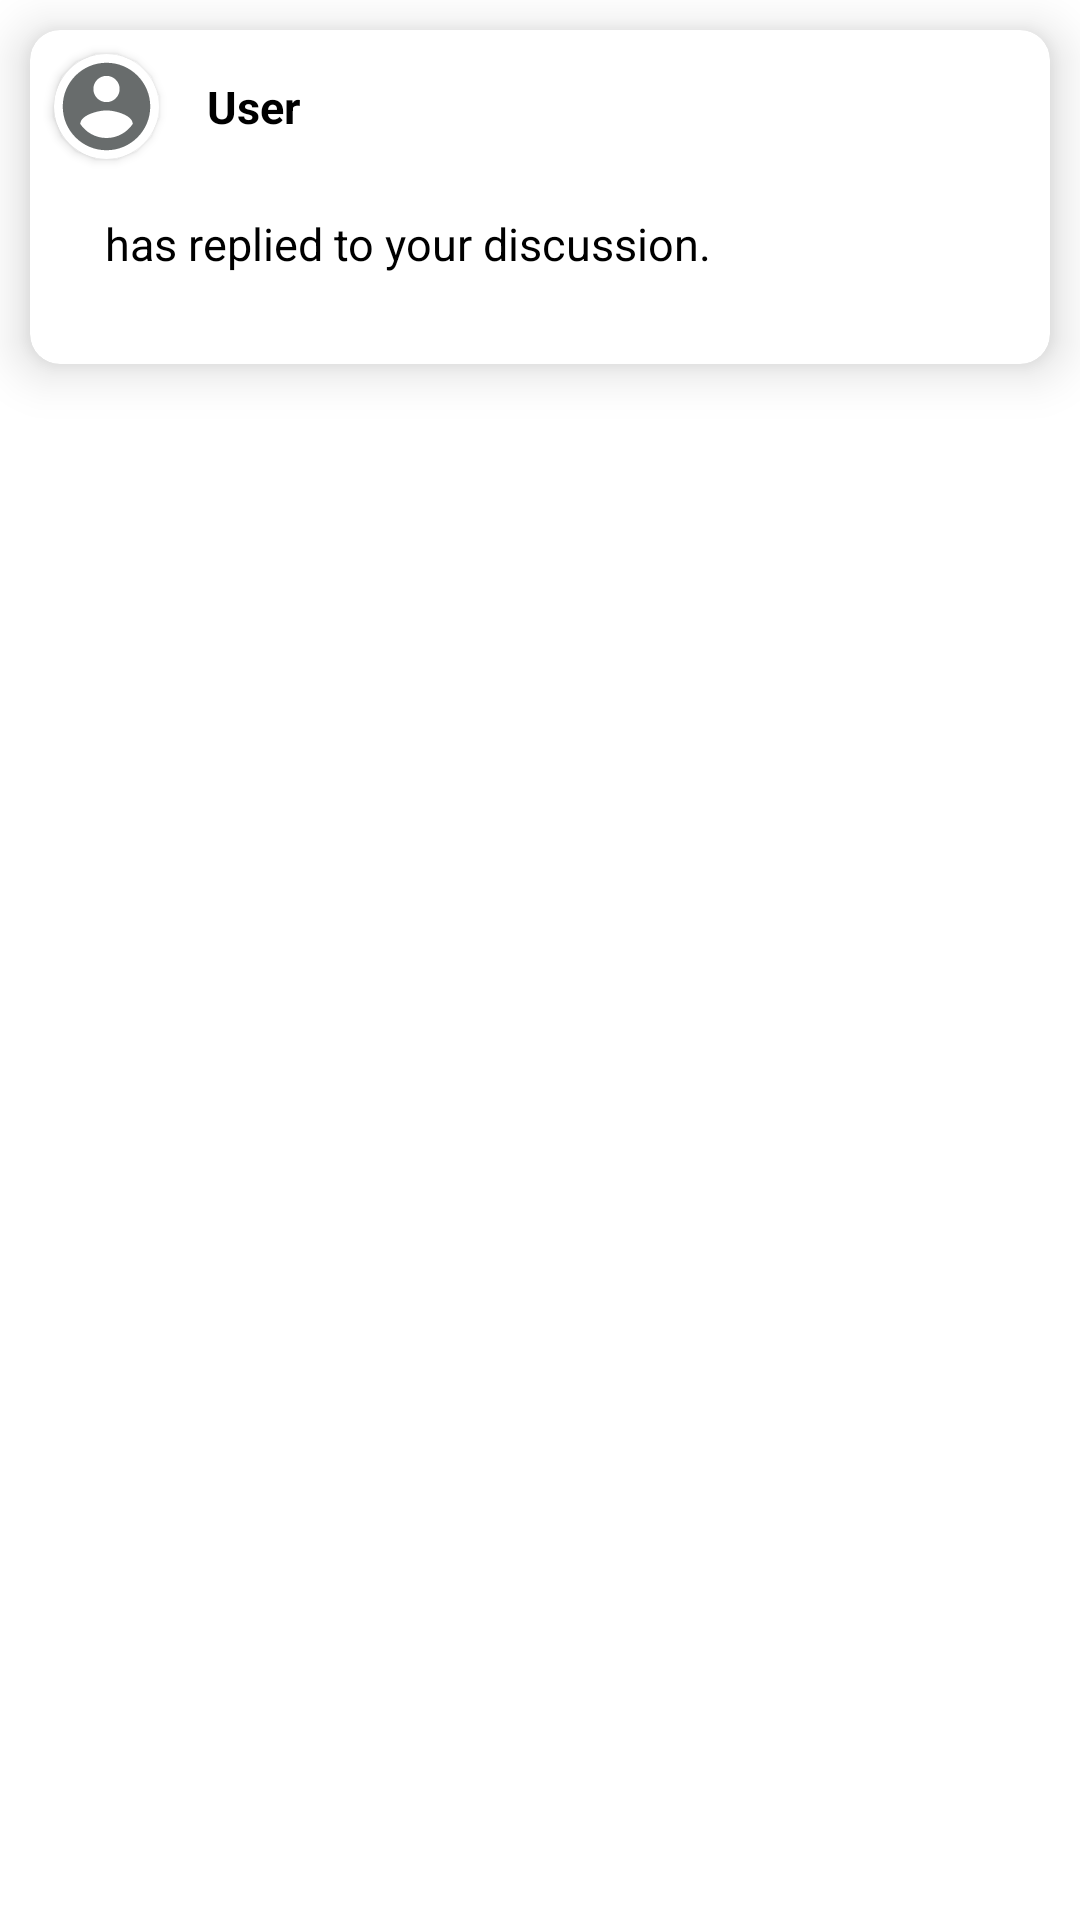

Icon click points for this 1080px×1920px phone screenshot, format point (x, y):
account: point (102, 106)
